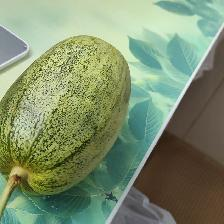gua: (26, 41, 106, 166)
